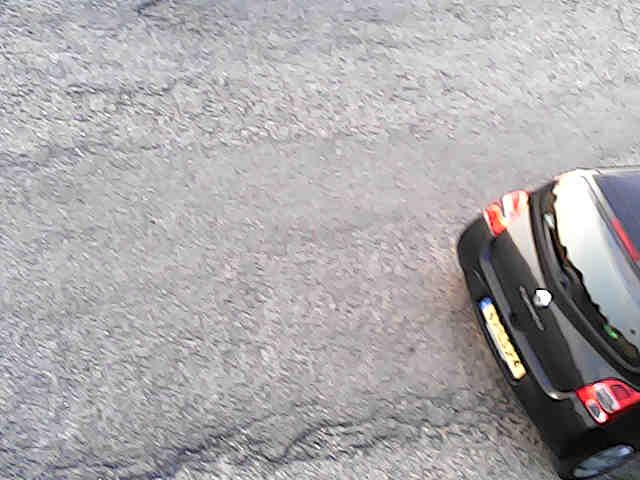suv: (457, 167, 639, 478)
